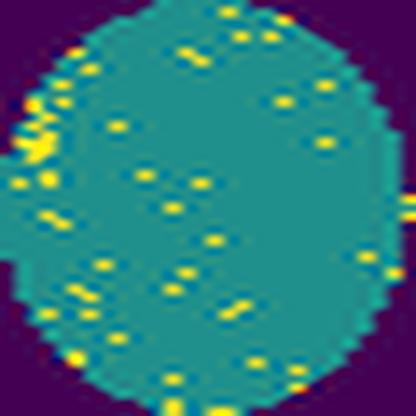Loc: (16, 102, 66, 166)
